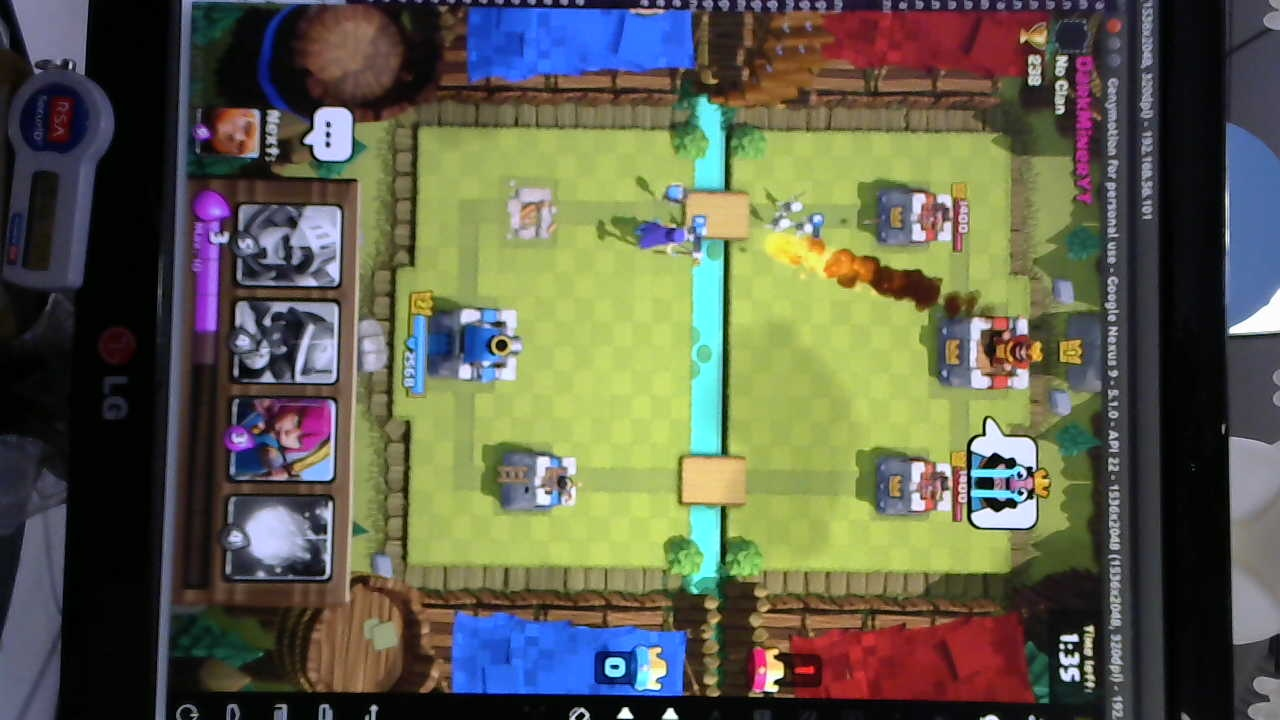arena: (500, 452, 583, 510)
bomb: (659, 182, 693, 207)
darena: (502, 180, 561, 245)
earena: (871, 188, 958, 249), (869, 460, 953, 522)
eking: (934, 311, 1042, 393)
king: (430, 307, 528, 386)
skeleton: (769, 195, 819, 237)
witch: (641, 218, 694, 255)
